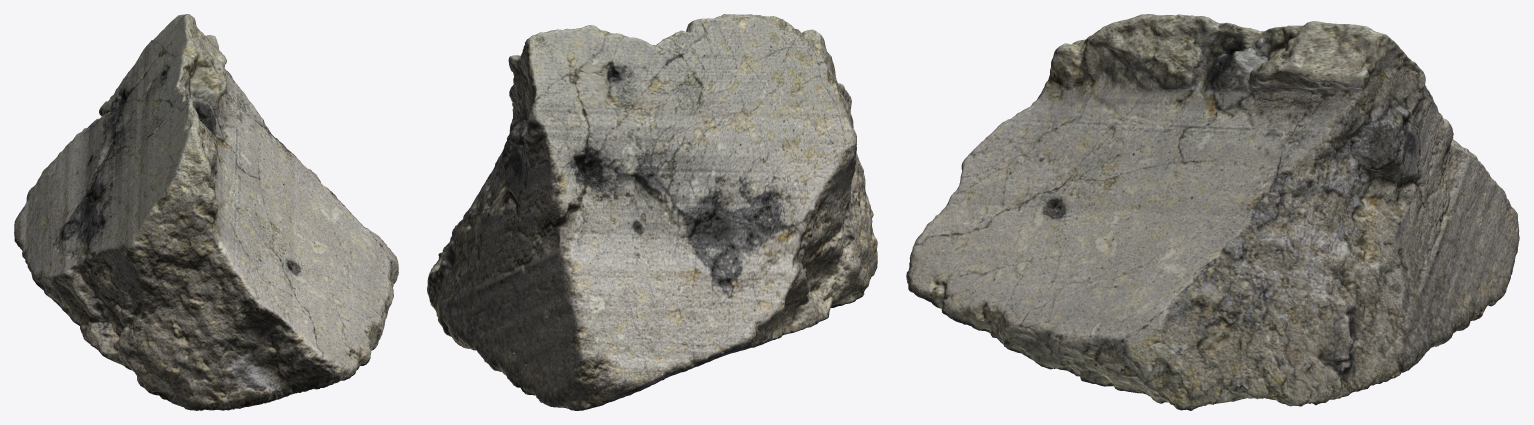
File: antarctic_meteorite_sample_eet_79001312.glb
3 views of the same model, side by side, from view 1: azimuth 30°, elevation 25°; view 2: azimuth 150°, elevation 25°; view 3: azimuth 270°, elevation 25° (orthographic). The views are drawn at different scales.
Parts seen in each view (by area): view 1: EET79001-312_SFM_Web-Resolution-Model_Coordinate-Registered.; view 2: EET79001-312_SFM_Web-Resolution-Model_Coordinate-Registered.; view 3: EET79001-312_SFM_Web-Resolution-Model_Coordinate-Registered..
Boxes of the visible parts, x1,y1,x2,y2 form: EET79001-312_SFM_Web-Resolution-Model_Coordinate-Registered.: [14, 14, 398, 410]; EET79001-312_SFM_Web-Resolution-Model_Coordinate-Registered.: [427, 14, 877, 410]; EET79001-312_SFM_Web-Resolution-Model_Coordinate-Registered.: [906, 14, 1519, 410].
Size of the model in its own units: 0.0585 by 0.051 by 0.0861.
Materials: 1 (1 with a texture image).
